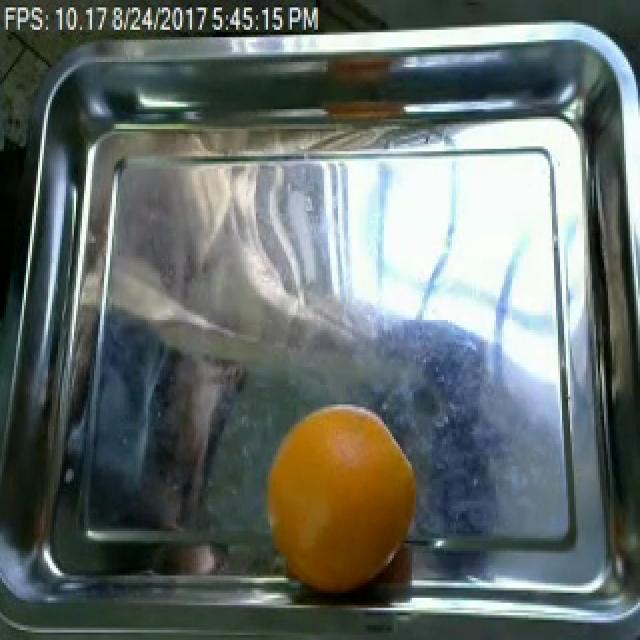Fruit: (264, 399, 424, 598)
